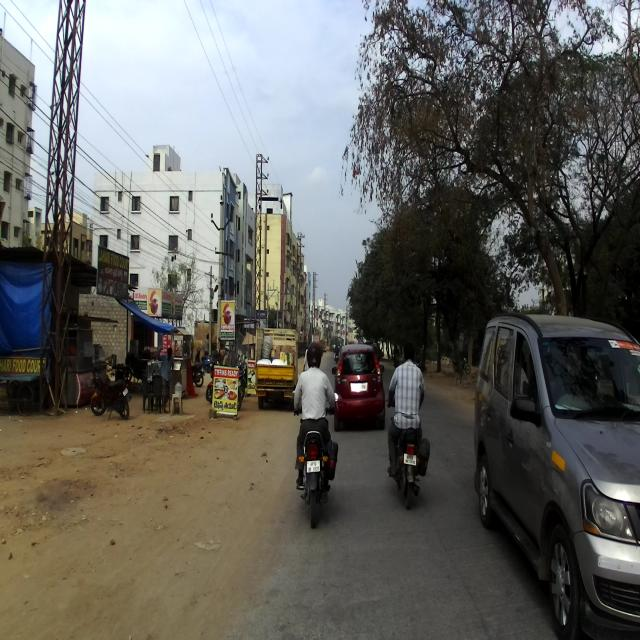car ahead at: (478, 309, 640, 640), (335, 344, 386, 428)
motorcycle ahead at: (294, 424, 339, 527), (388, 419, 432, 516), (87, 358, 135, 426)
truck ahead at: (252, 319, 298, 399)
